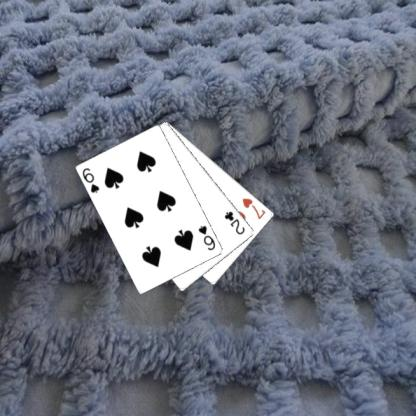2C: (222, 209, 246, 236)
6S: (196, 223, 217, 252), (80, 165, 101, 194)
7H: (240, 195, 267, 221)
